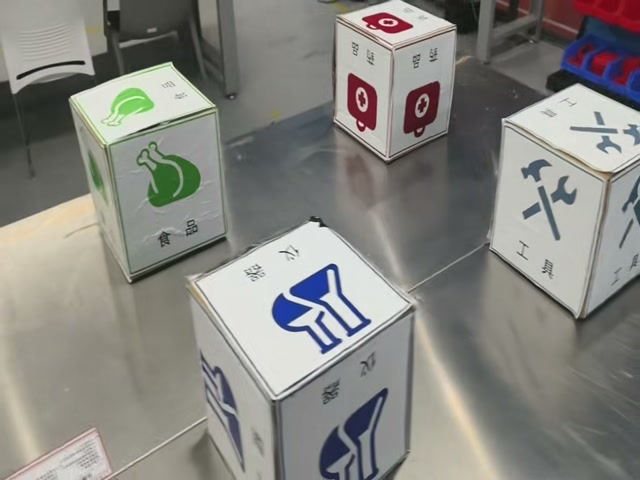Cube_food: (77, 64, 217, 151)
Cube_ins: (189, 220, 412, 399)
Cube_medicine: (336, 0, 464, 51)
Cube_tool: (503, 86, 639, 182)
